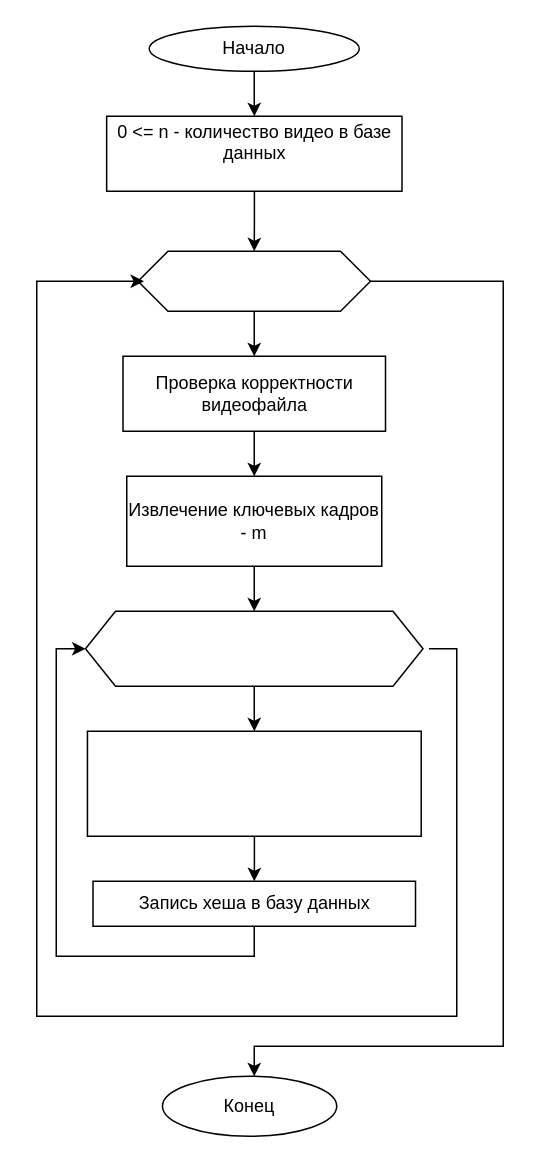
This 542x1163 diagram has some shape labels left out. Each missing label, with the centre of its shape:
"0 <= i < n" goes at pixel 253 280.
"0 <= j < m" goes at pixel 253 648.
"Преобразование кадра в хеш с помощью выбранной хеш-функции" goes at pixel 253 783.
